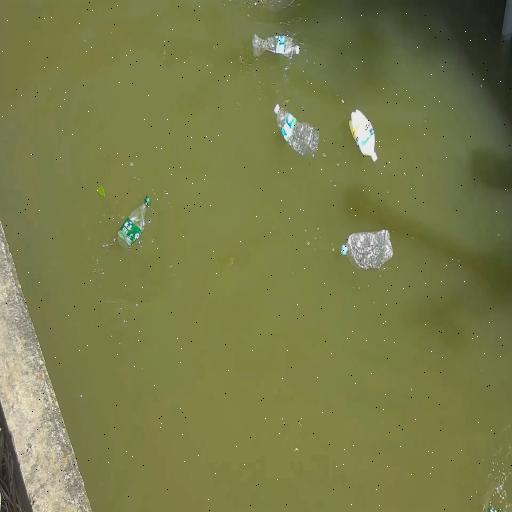plastic: (274, 104, 318, 156), (340, 229, 392, 270), (117, 196, 149, 247), (350, 109, 378, 162), (252, 34, 299, 58)
